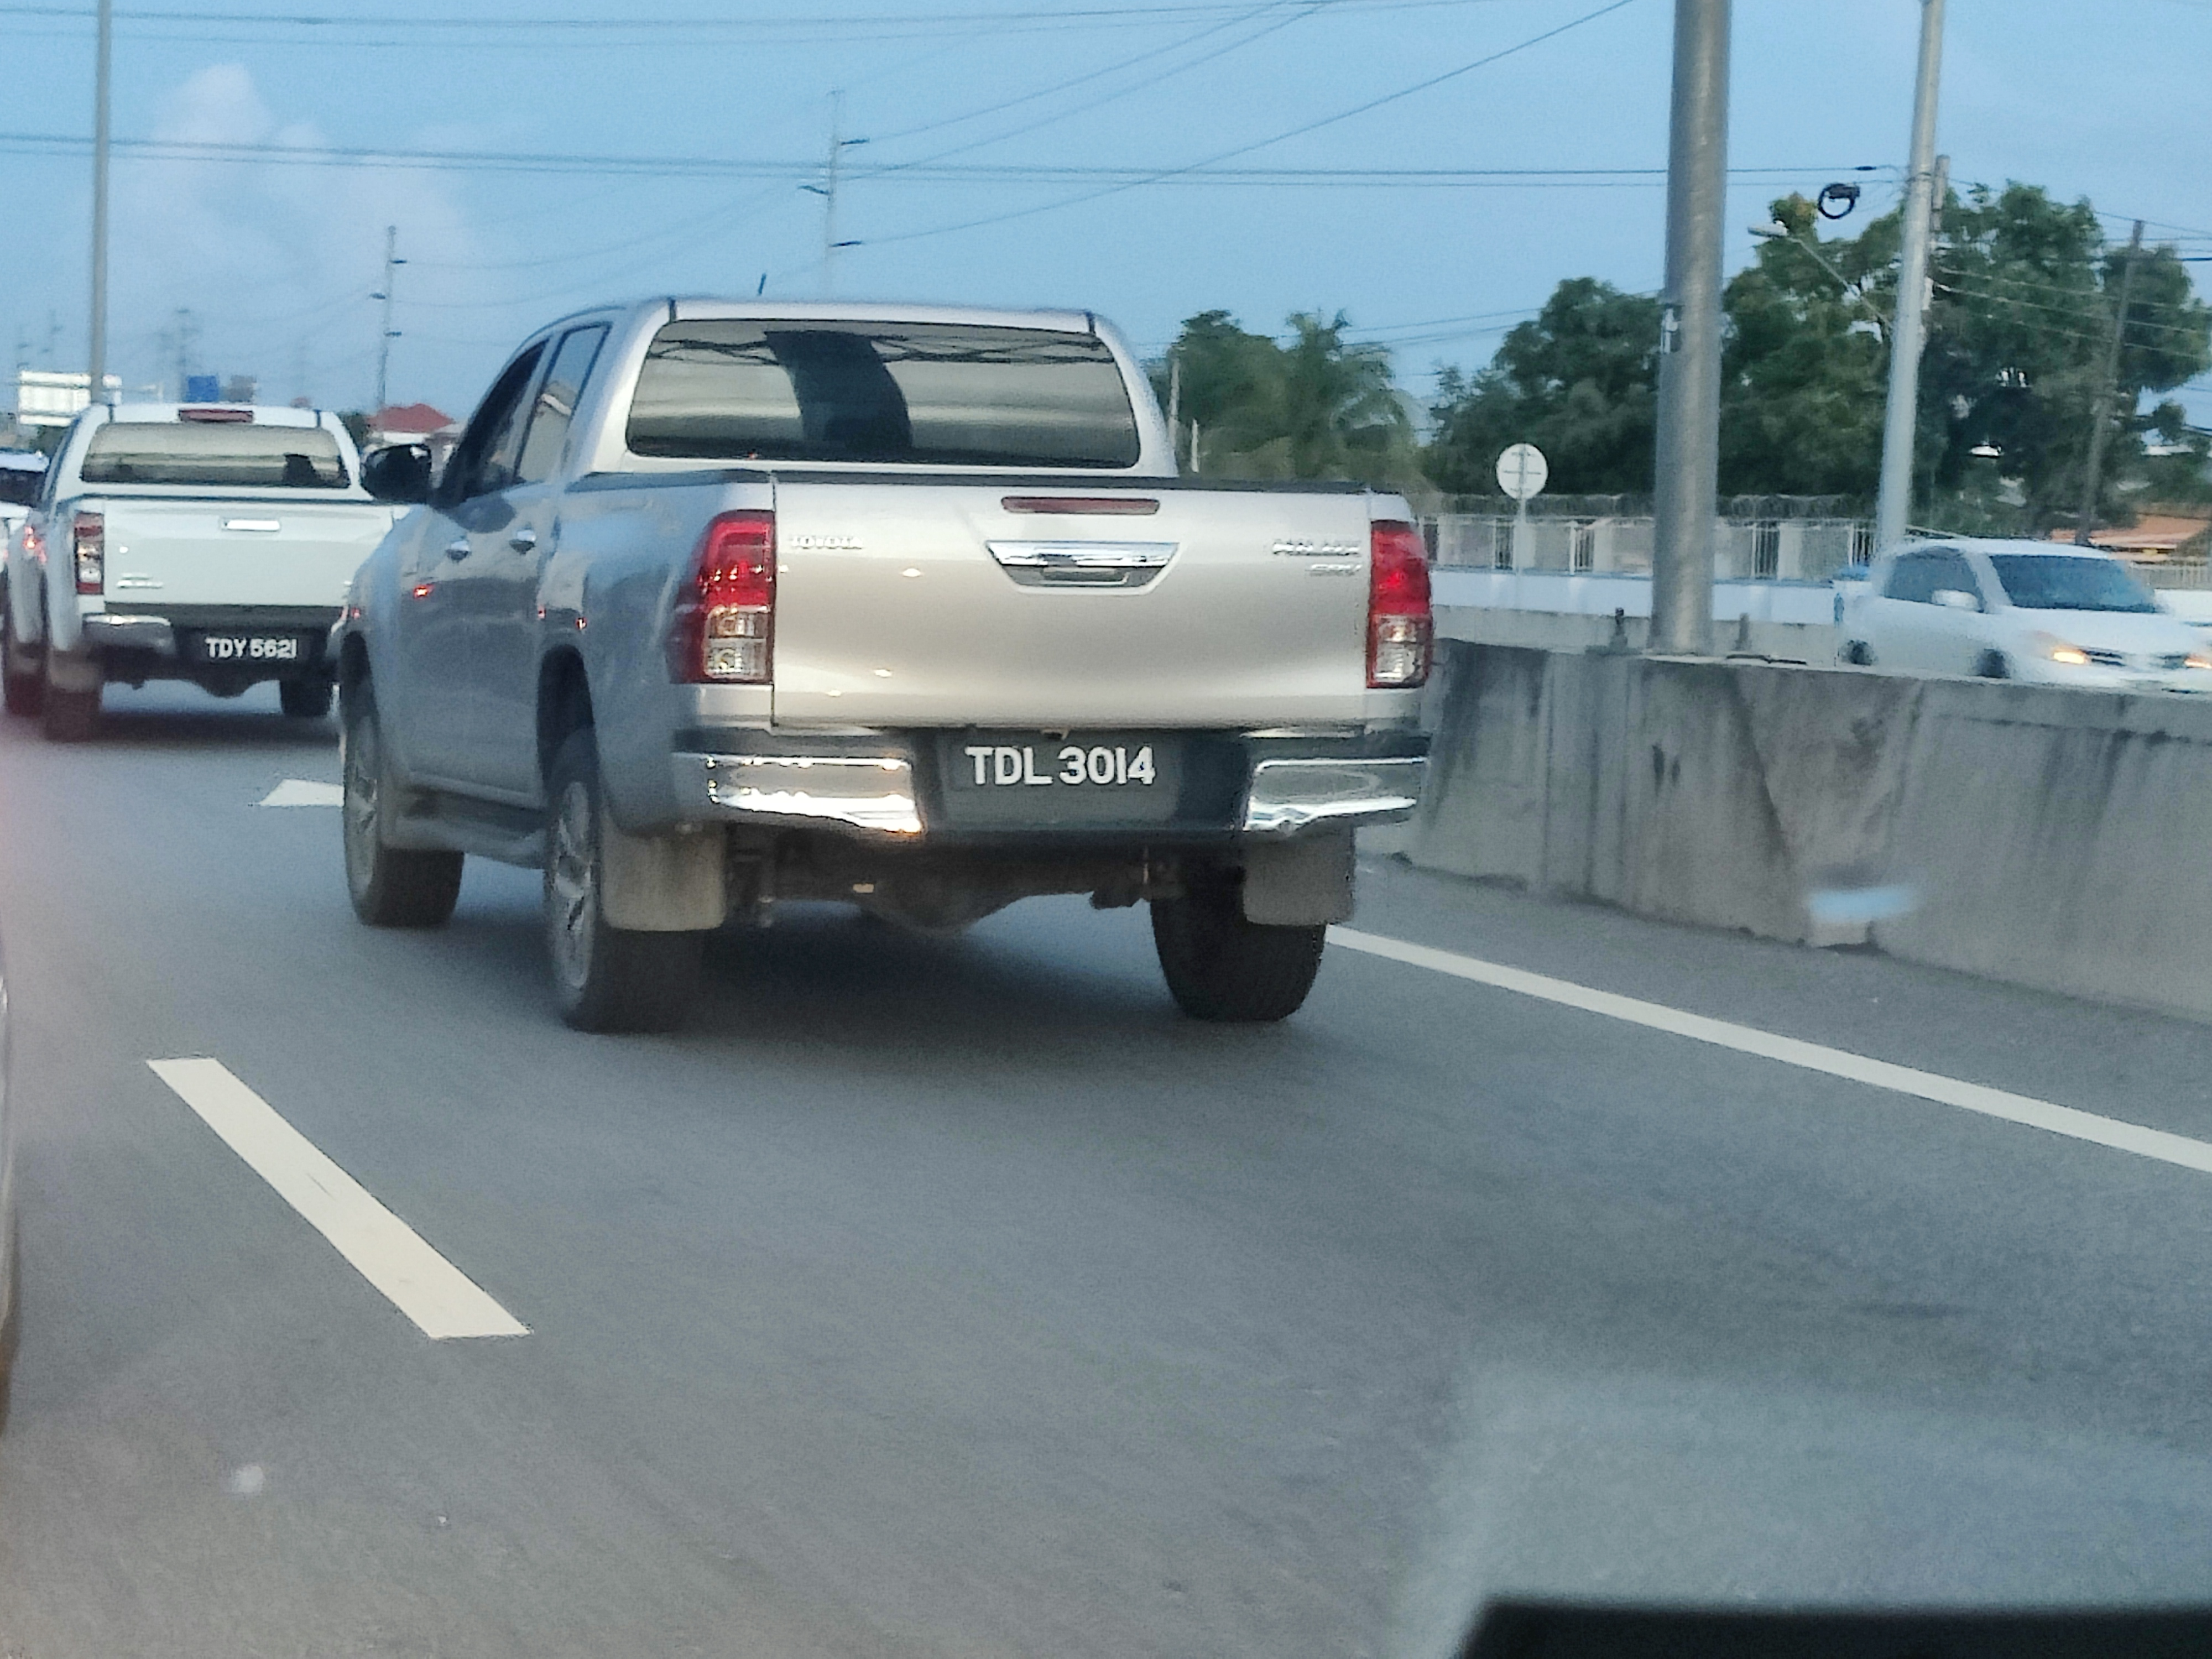License-Plate: (946, 741, 1176, 791), (200, 635, 302, 661)
